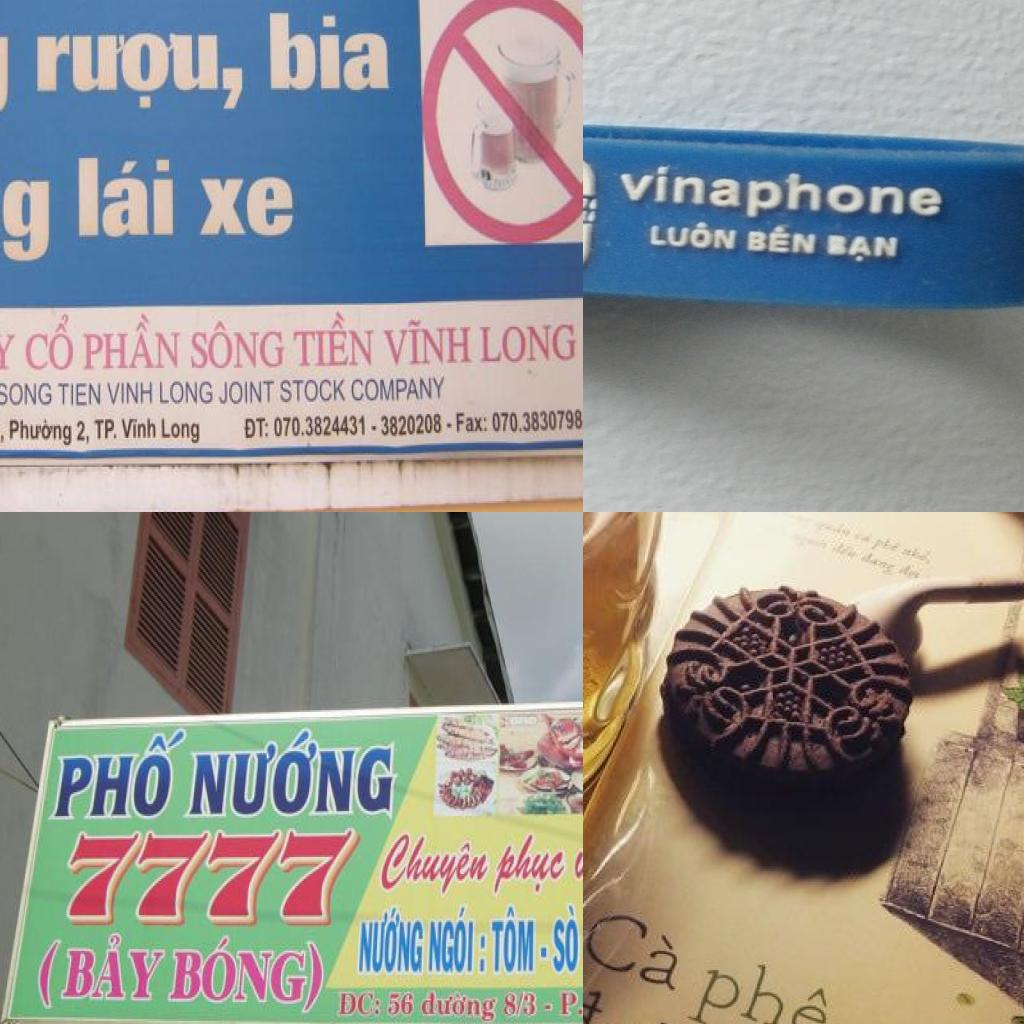text: (52, 828, 364, 930), (182, 722, 402, 823), (614, 164, 948, 228), (34, 30, 248, 114), (683, 939, 844, 1024), (48, 727, 188, 821), (264, 4, 392, 95), (583, 891, 696, 994), (168, 935, 308, 1004), (74, 155, 178, 243), (59, 932, 171, 1002), (376, 833, 496, 898), (78, 308, 182, 373), (197, 175, 295, 237), (0, 156, 52, 265), (187, 318, 284, 375), (293, 306, 376, 372), (490, 830, 570, 896), (356, 907, 427, 978), (478, 315, 578, 365), (382, 316, 472, 370), (583, 976, 680, 1024), (426, 903, 476, 977), (23, 312, 76, 374), (349, 376, 447, 406), (650, 219, 740, 251), (747, 222, 819, 259), (273, 412, 367, 440), (419, 991, 498, 1024), (824, 233, 902, 266), (32, 939, 64, 1012), (551, 905, 581, 976), (9, 416, 73, 448), (377, 410, 443, 440), (279, 378, 347, 407), (301, 940, 326, 1016), (158, 414, 204, 450), (157, 378, 215, 406), (219, 378, 275, 407), (335, 990, 383, 1019), (54, 382, 102, 410), (0, 383, 52, 407), (106, 380, 155, 405), (119, 414, 159, 443), (453, 407, 489, 435), (241, 412, 270, 442), (386, 992, 417, 1019), (504, 994, 537, 1019), (566, 848, 583, 896), (94, 417, 120, 445), (0, 330, 16, 374), (560, 991, 583, 1017), (75, 417, 91, 445), (478, 934, 488, 976), (583, 197, 599, 210)
